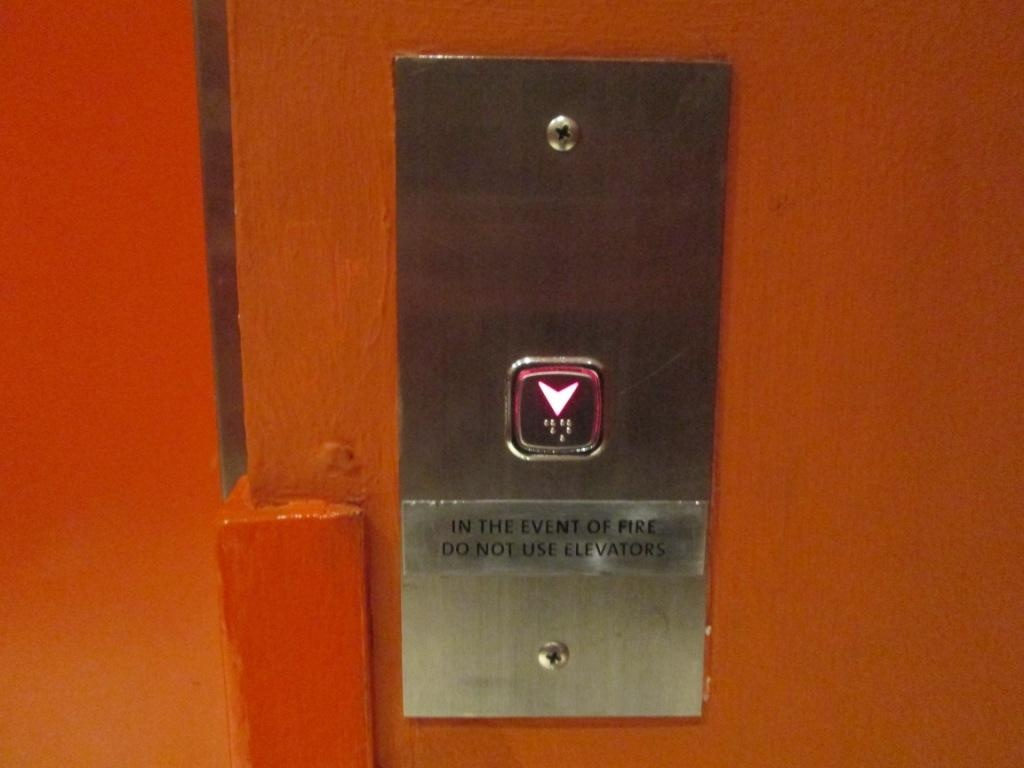down: (498, 348, 614, 469)
